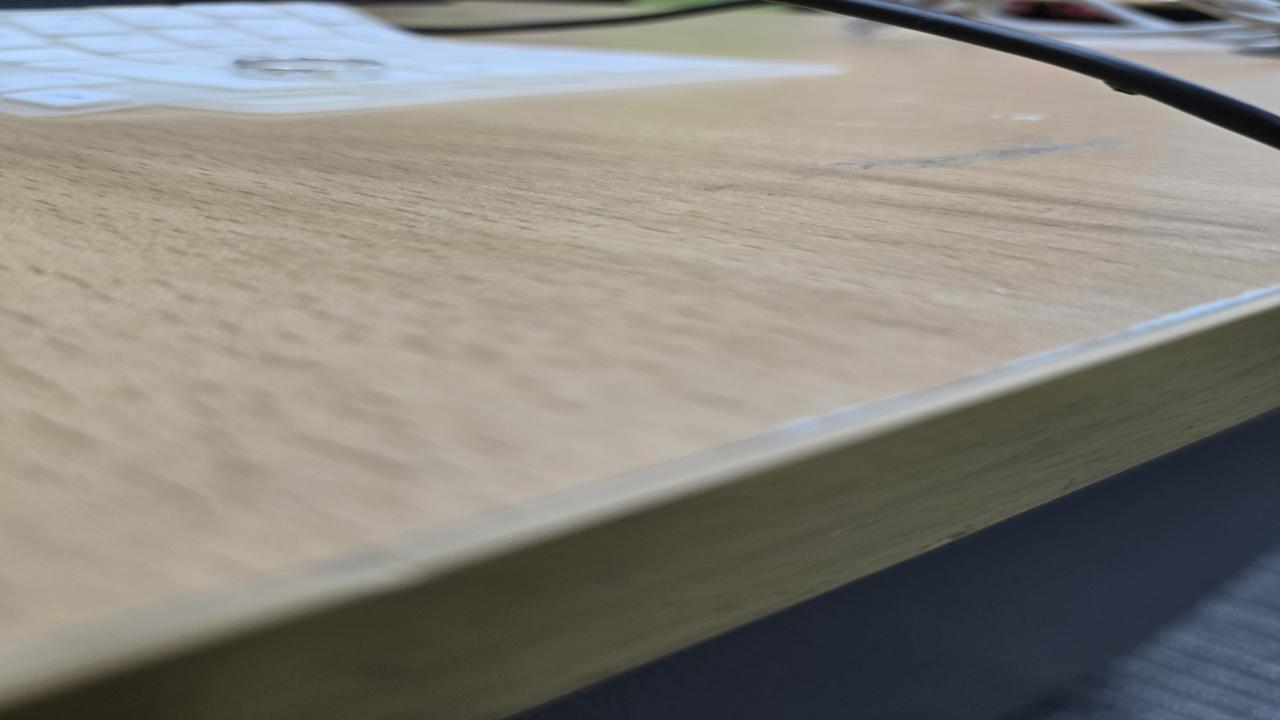ring: (234, 56, 388, 83)
